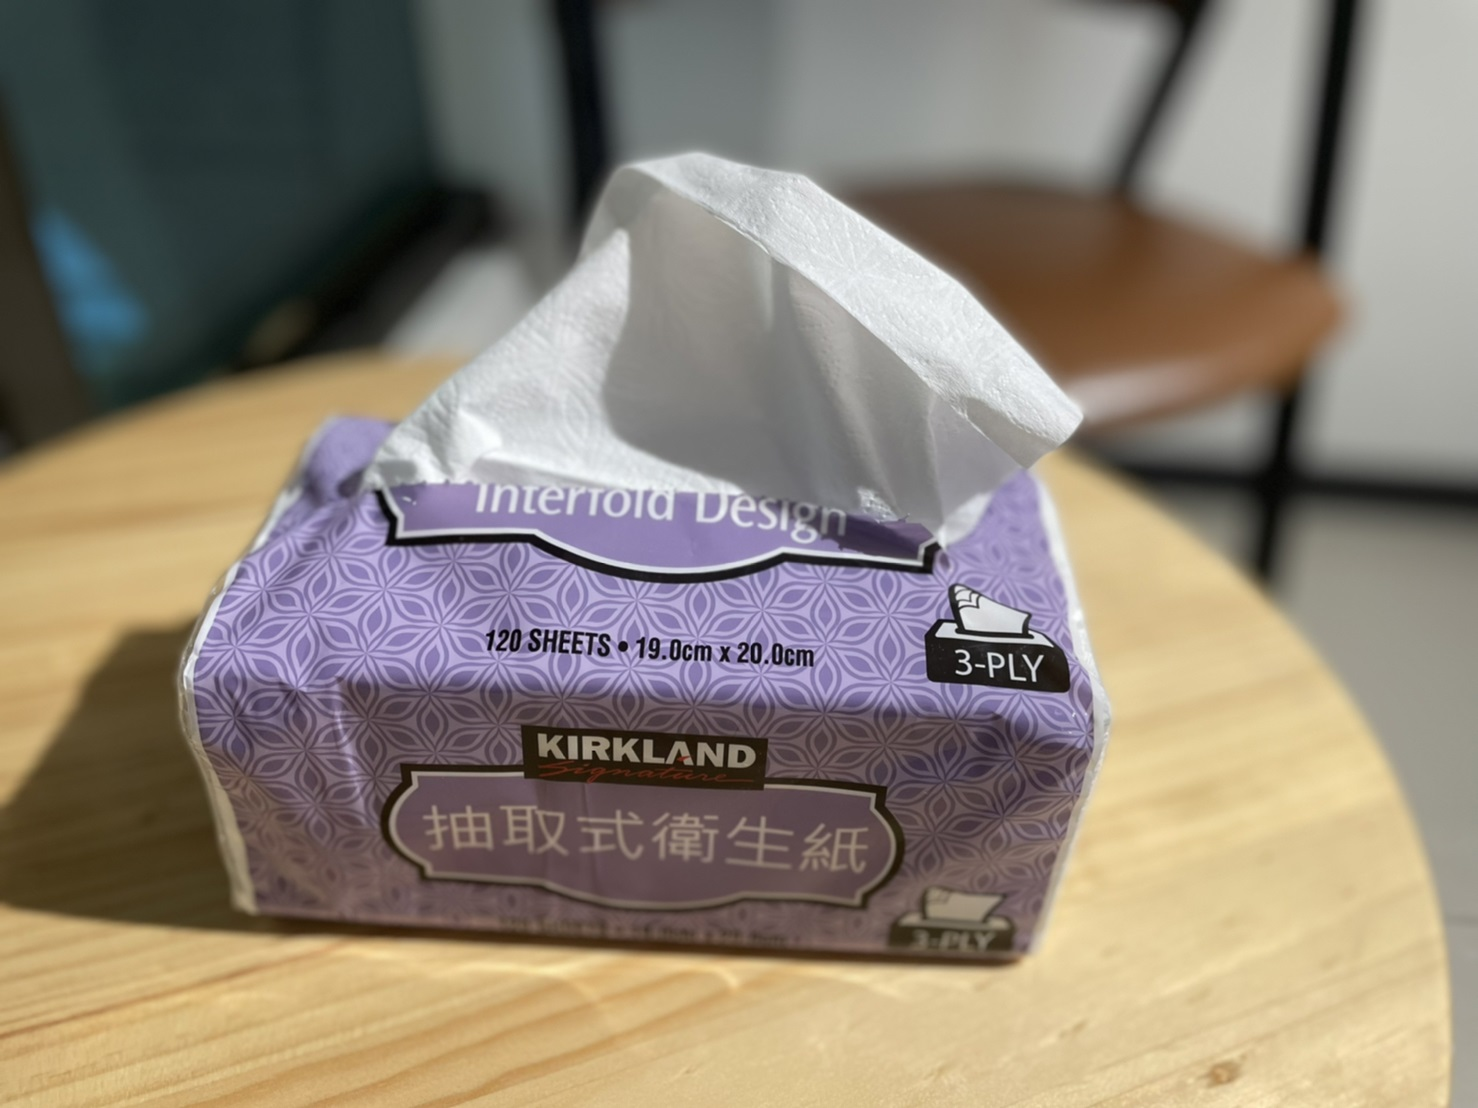tissue: (164, 150, 1120, 990)
